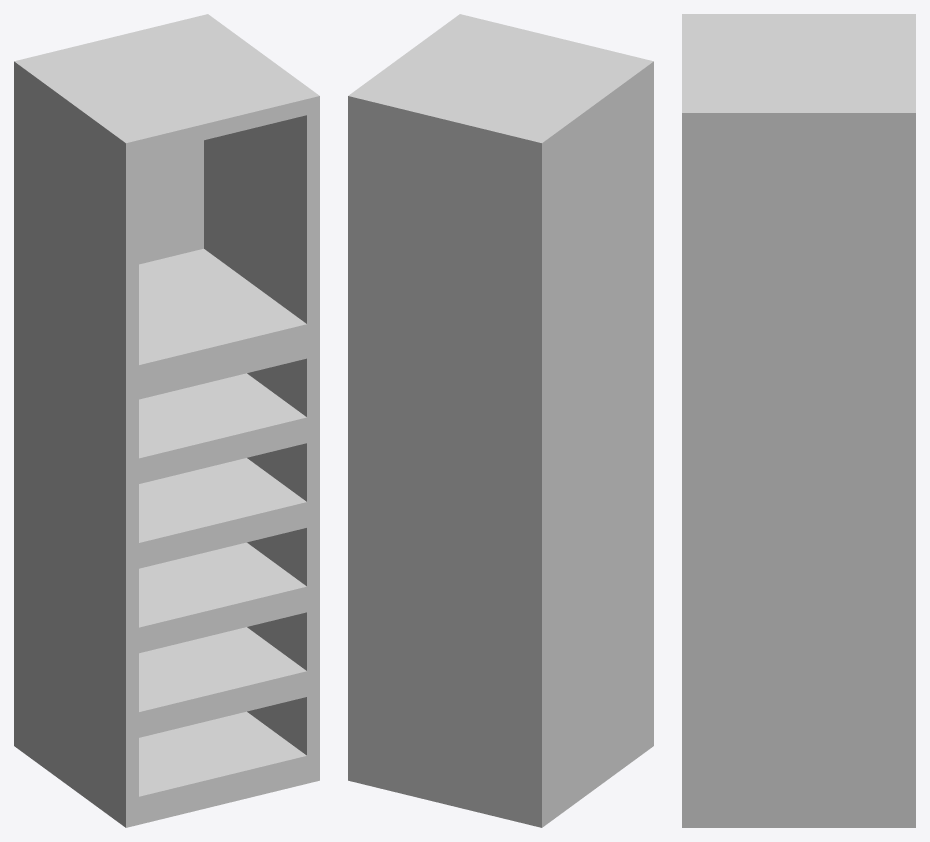
The model's file is drawer_5.glb.
The picture shows the model from 3 angles, left to right: view 1: azimuth 30°, elevation 25°; view 2: azimuth 150°, elevation 25°; view 3: azimuth 270°, elevation 25°; orthographic projection. The views are drawn at different scales.
Parts seen in each view (by area): view 1: Drawer-Cabinet (Alternative); view 2: Drawer-Cabinet (Alternative); view 3: Drawer-Cabinet (Alternative).
Boxes of the visible parts, <box> form: Drawer-Cabinet (Alternative): <box>14,14,319,827</box>; Drawer-Cabinet (Alternative): <box>348,14,653,827</box>; Drawer-Cabinet (Alternative): <box>682,14,915,827</box>.
Bounding box in the file's own units: 0.6 × 2.02 × 0.5998.
1 material, 1 textured.
